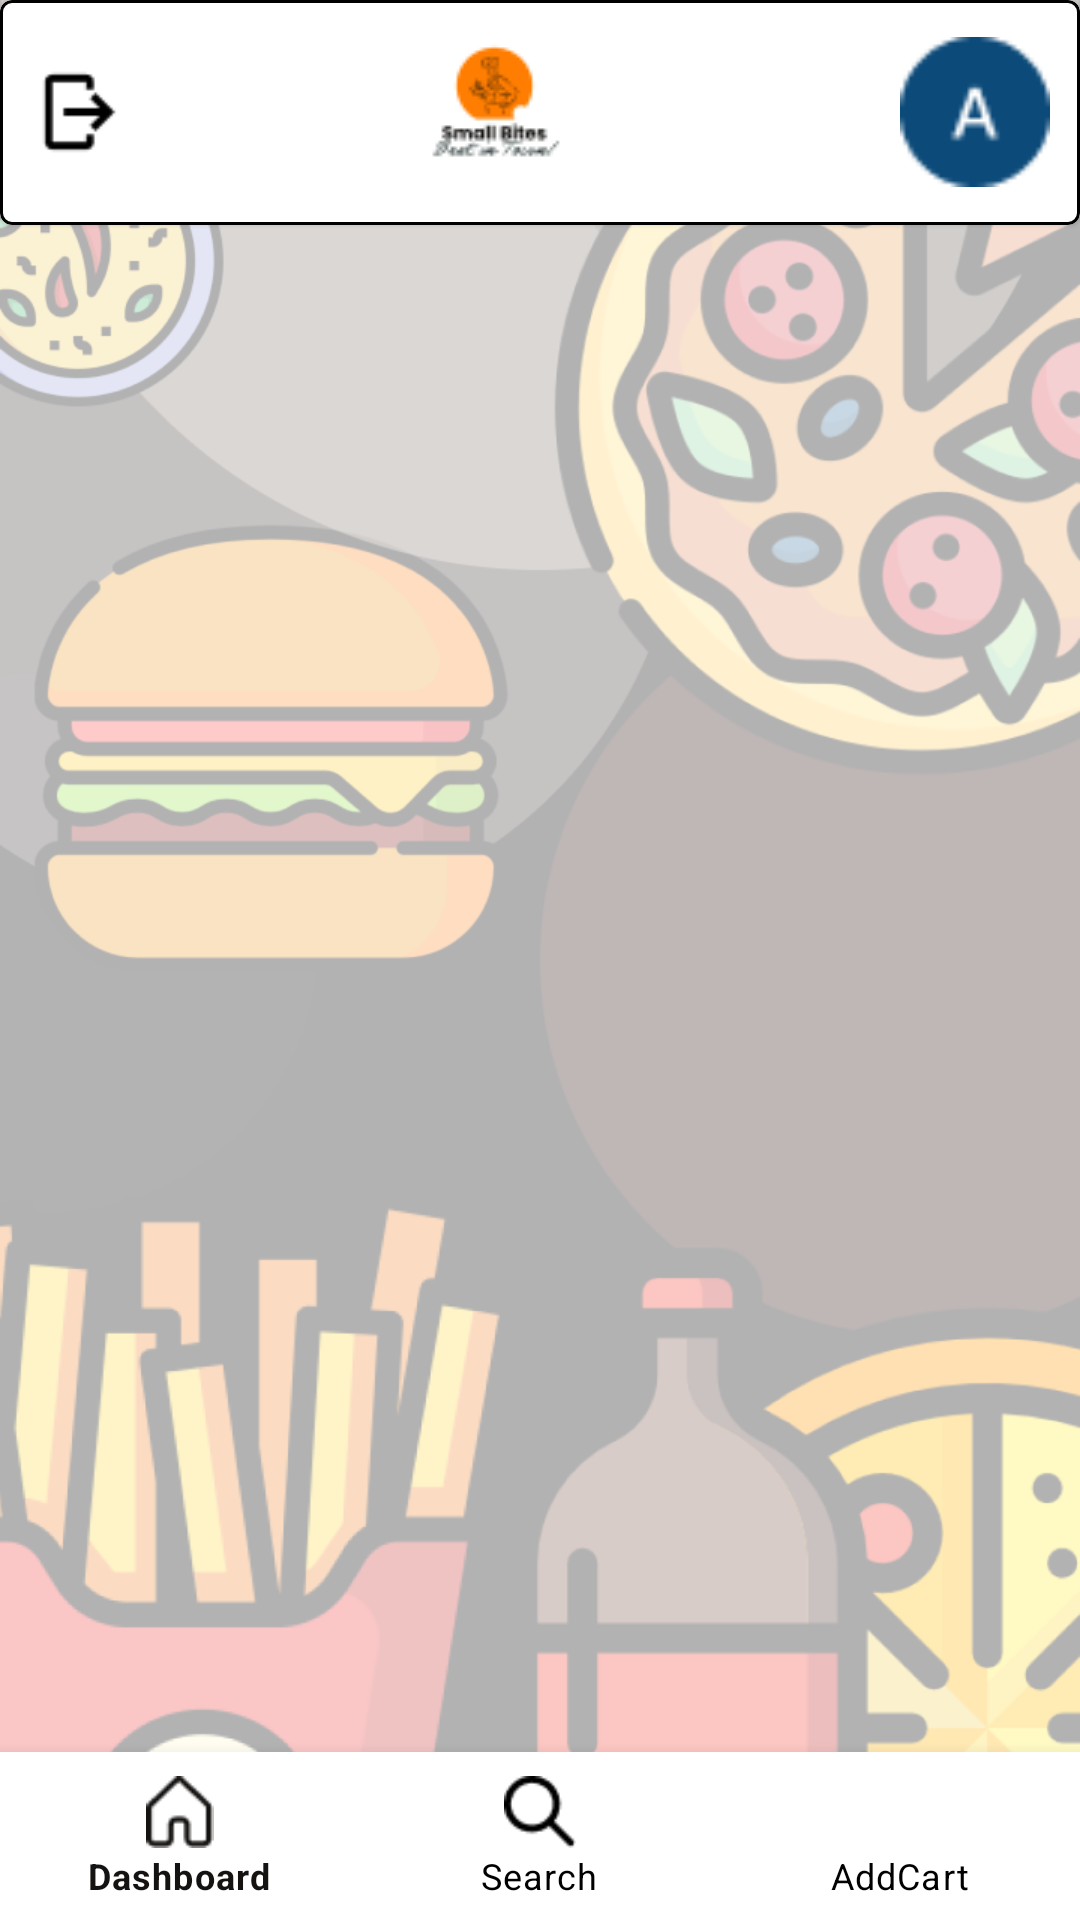

Screen size 1080×1920. Icon name, then its box in pixels as (x1, y1, x2, y2):
user: (900, 37, 1050, 187)
